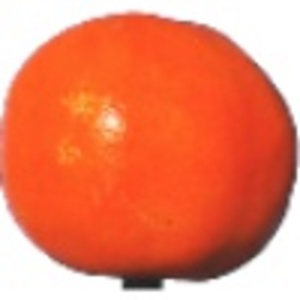tangerina: (1, 9, 300, 289)
